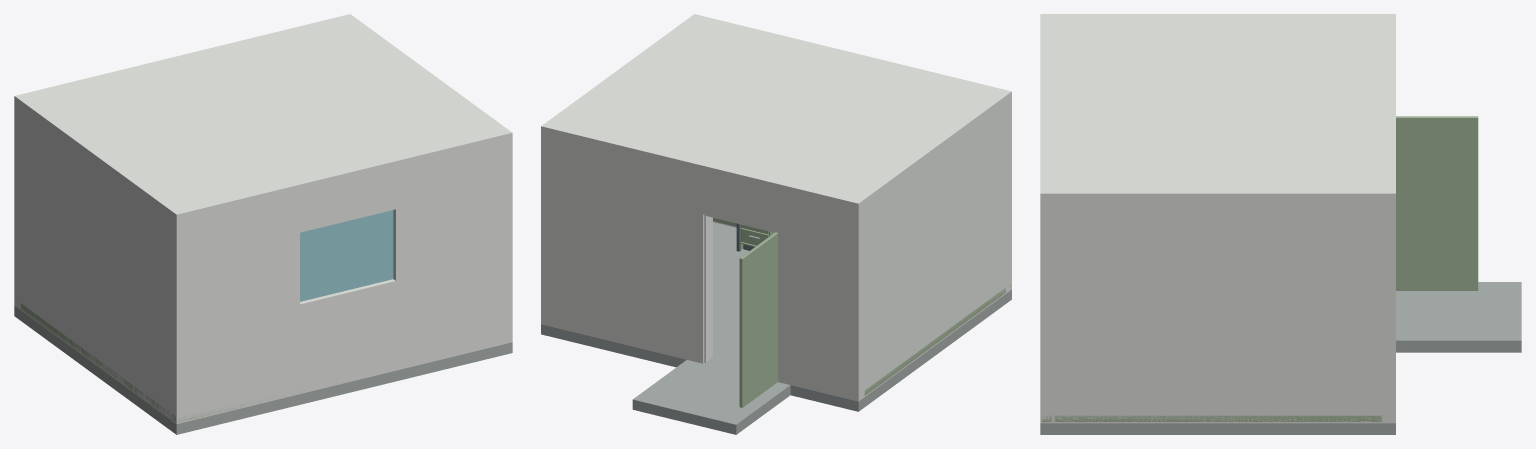
The model's file is Biology.fbx.
3 views of the same model, side by side, from view 1: azimuth 30°, elevation 25°; view 2: azimuth 150°, elevation 25°; view 3: azimuth 270°, elevation 25° (orthographic). The views are drawn at different scales.
Parts seen in each view (by area): view 1: Wall-north.002, Ceiling.002, Wall-west.002, Window-glazing.002, Floor.002, Wall-south.002, Coved-base-west.002; view 2: Ceiling.002, Wall-south.002, Wall-west.002, Floor.002, Entry-landing.002, Door-open.002, Door-jamb.005, Wall-north.002, Coved-base-west.002; view 3: Wall-east.002, Ceiling.002, Door-open.002, Entry-landing.002, Floor.002, Wall-north.002, Wall-south.002, Coved-base-east.002.
Boxes of the visible parts, <box> form: Wall-north.002: <box>170,141,512,423</box>; Ceiling.002: <box>14,14,512,223</box>; Wall-west.002: <box>20,109,170,419</box>; Window-glazing.002: <box>300,210,393,301</box>; Floor.002: <box>14,305,512,434</box>; Wall-south.002: <box>14,105,20,309</box>; Coved-base-west.002: <box>21,303,169,416</box>; Ceiling.002: <box>541,14,1011,211</box>; Wall-south.002: <box>541,134,863,401</box>; Wall-west.002: <box>864,104,1006,397</box>; Floor.002: <box>541,222,1011,411</box>; Entry-landing.002: <box>632,360,790,434</box>; Door-open.002: <box>739,232,777,407</box>; Door-jamb.005: <box>704,215,712,362</box>; Wall-north.002: <box>713,100,1011,293</box>; Coved-base-west.002: <box>864,288,1005,395</box>; Wall-east.002: <box>1053,203,1382,423</box>; Ceiling.002: <box>1040,14,1395,202</box>; Door-open.002: <box>1396,116,1478,290</box>; Entry-landing.002: <box>1396,282,1521,352</box>; Floor.002: <box>1040,423,1395,434</box>; Wall-north.002: <box>1040,203,1053,423</box>; Wall-south.002: <box>1383,203,1395,423</box>; Coved-base-east.002: <box>1054,415,1381,421</box>.
Size of the model in its own units: 490 by 307 by 555.
